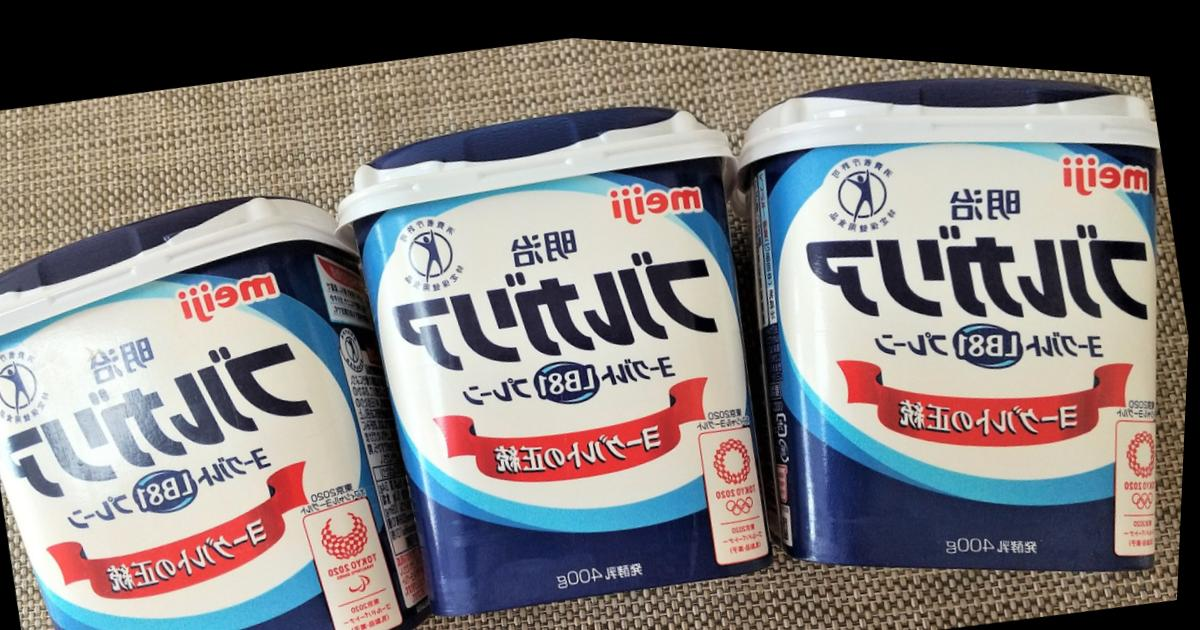plastic: (692, 48, 1200, 630), (318, 62, 821, 630), (0, 157, 444, 630)
